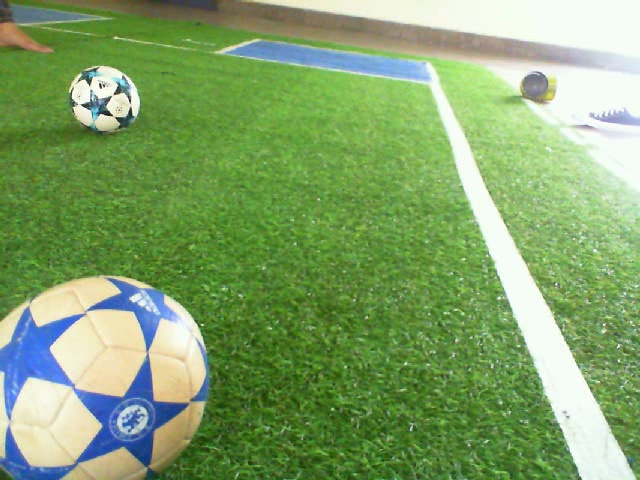ball: (1, 272, 213, 480), (68, 63, 141, 135)
